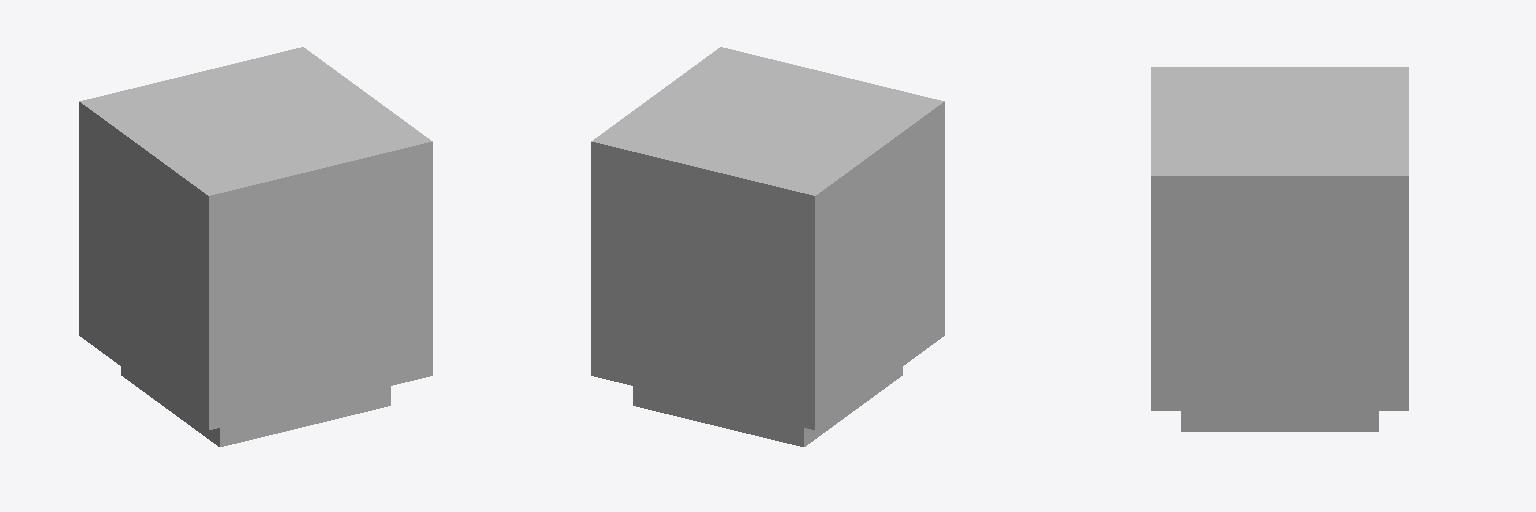
Rendered from CubeOco_Textured.obj.
3 views of the same model, side by side, from view 1: azimuth 30°, elevation 25°; view 2: azimuth 150°, elevation 25°; view 3: azimuth 270°, elevation 25° (orthographic).
Parts seen in each view (by area): view 1: Cube; view 2: Cube; view 3: Cube.
Part boxes in pixels (x1,y1,x2,y2): Cube: (79, 47, 432, 446); Cube: (591, 47, 944, 446); Cube: (1151, 67, 1408, 431).
Size of the model in its own units: 2 by 2.3 by 2.